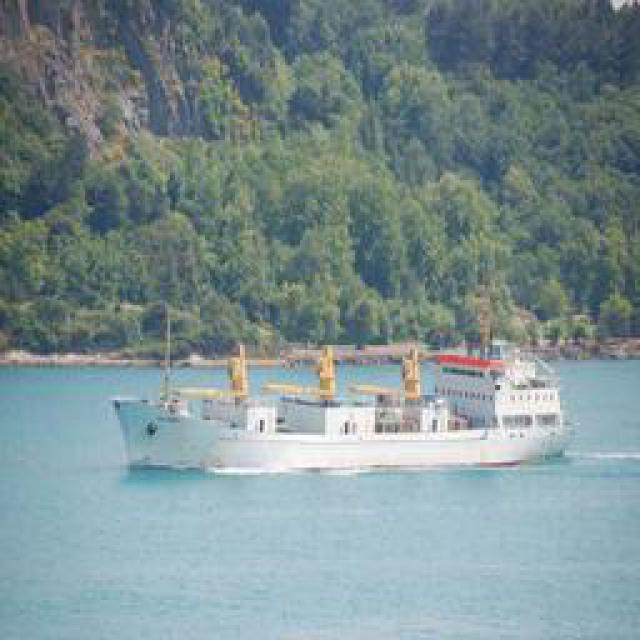Ship: (127, 345, 570, 480)
